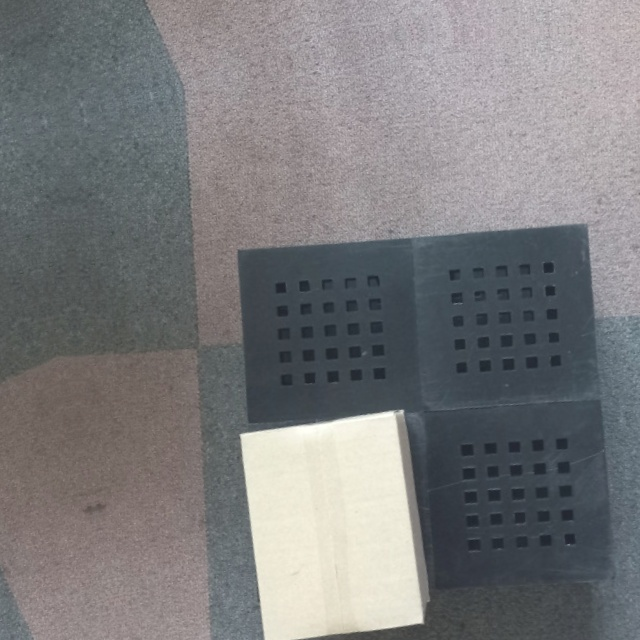box: (237, 408, 426, 640)
pallet: (223, 219, 624, 609)
